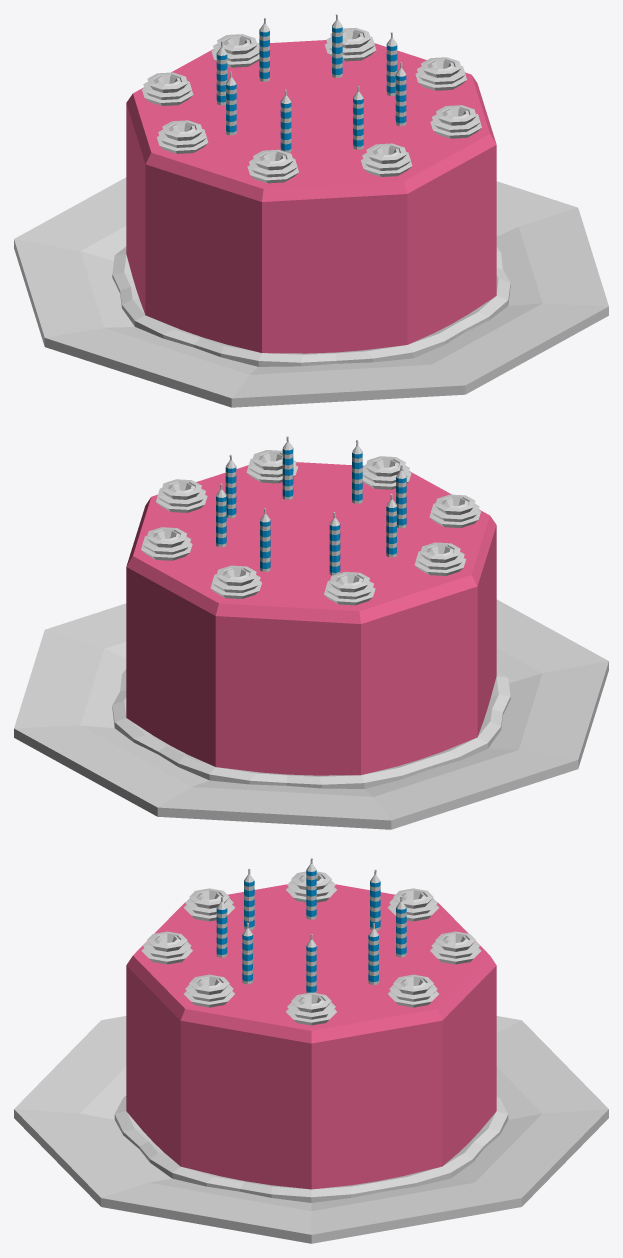
Rendered from Cake.glb.
3 views of the same model, one above another, from view 1: azimuth 30°, elevation 25°; view 2: azimuth 150°, elevation 25°; view 3: azimuth 270°, elevation 25° (orthographic). The views are drawn at different scales.
Visible parts, largest first — view 1: Circle.006; view 2: Circle.006; view 3: Circle.006.
Boxes of the visible parts, left/top/right/bottom form: Circle.006: left=14, top=14, right=608, bottom=407; Circle.006: left=14, top=436, right=608, bottom=829; Circle.006: left=14, top=858, right=608, bottom=1243.
Bounding box in the file's own units: 21.8 × 9.92 × 21.8.
